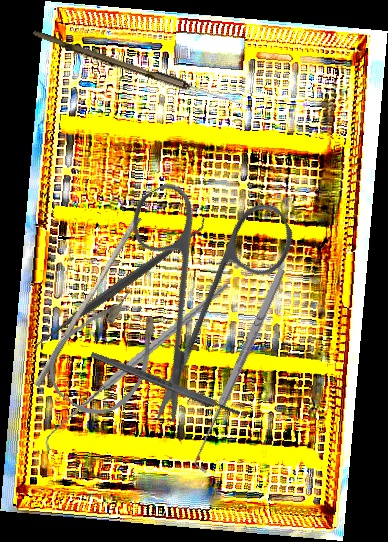Cannula: (35, 277, 181, 430)
Hook Surgical: (22, 283, 253, 451), (186, 264, 296, 475)
Iris Scissors: (55, 140, 345, 428)
Pusher: (33, 211, 142, 392)
Scalpel Handle: (89, 349, 242, 419)
Spatula Surgical: (26, 214, 215, 356)
Surgical Spoon: (30, 29, 246, 110)
